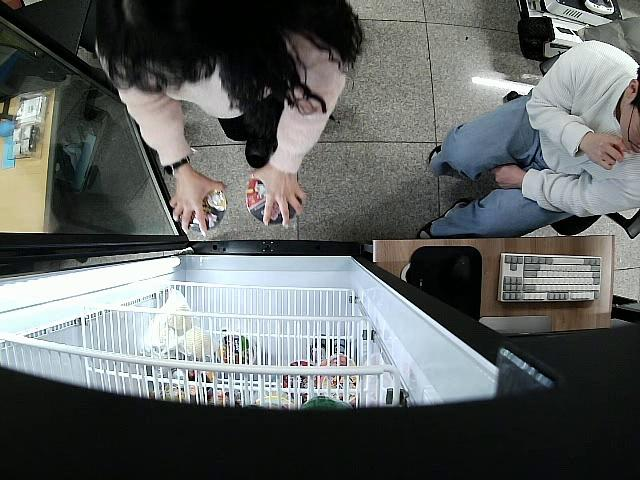00_hand: (251, 169, 307, 227), (168, 179, 225, 235), (493, 163, 525, 189)
07_buldak_L: (244, 177, 304, 223), (181, 185, 226, 231)
